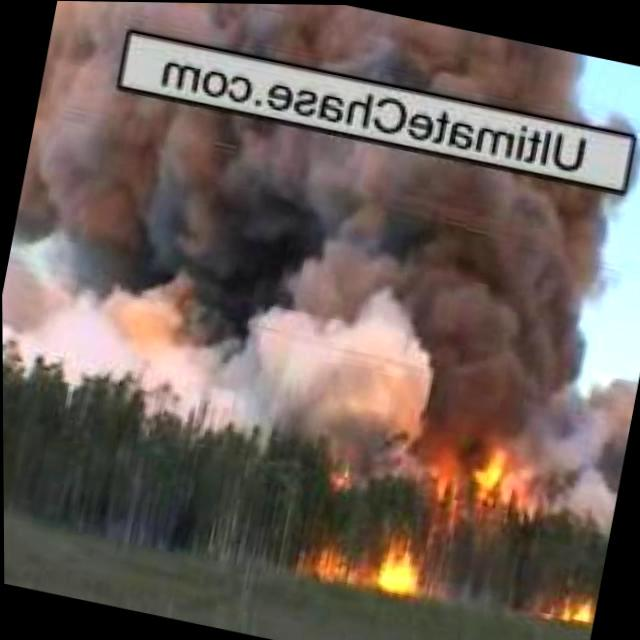fire: (470, 428, 518, 496), (373, 529, 422, 589), (309, 543, 357, 589), (553, 580, 599, 624)
